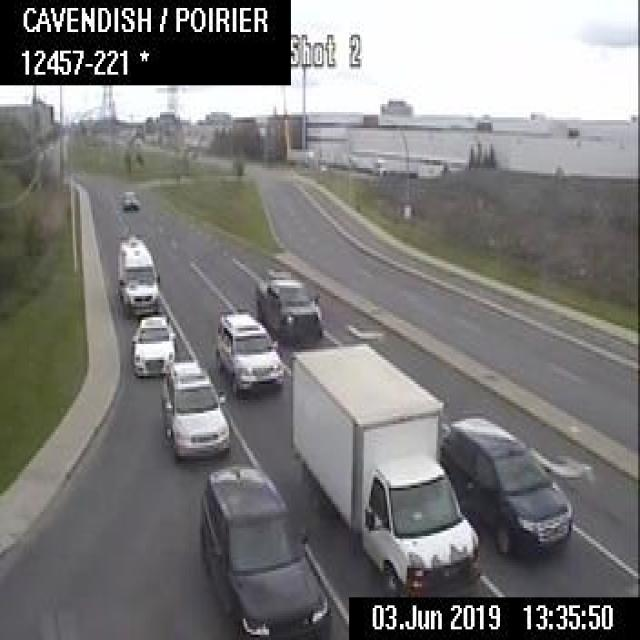vehicle: (290, 341, 481, 596), (196, 462, 329, 638), (438, 415, 573, 556), (160, 359, 229, 459), (215, 309, 283, 394), (255, 277, 322, 345), (115, 235, 158, 310), (131, 314, 172, 376), (118, 187, 140, 208)
